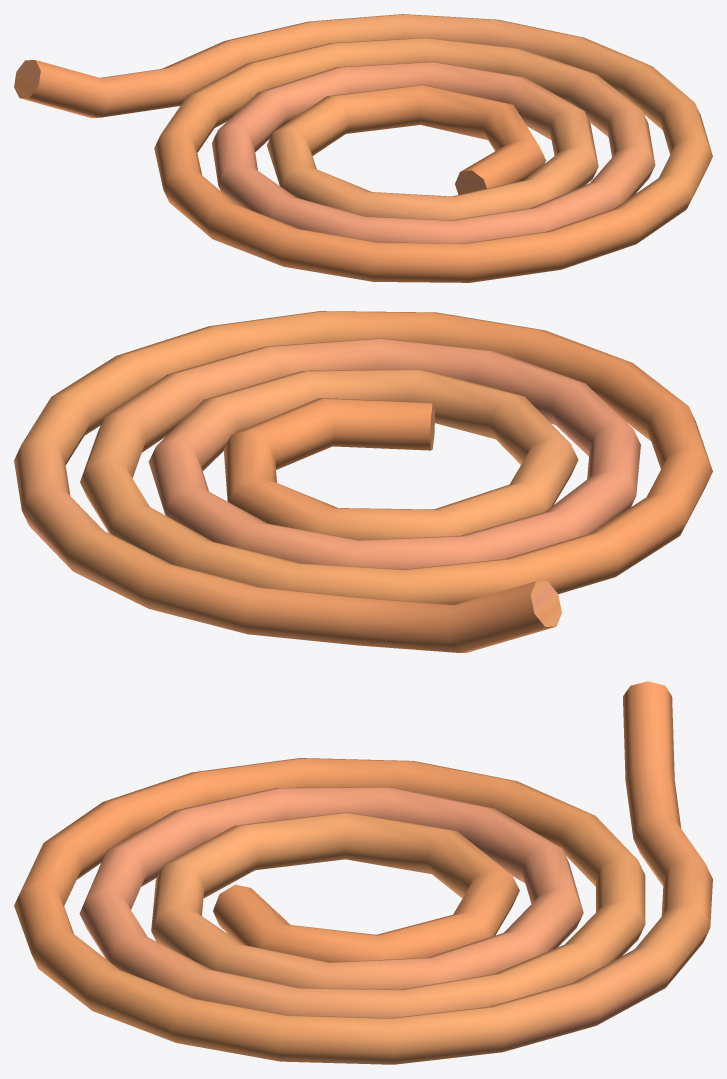
Rendered from static.glb.
The picture shows the model from 3 angles, top to bottom: view 1: azimuth 30°, elevation 25°; view 2: azimuth 150°, elevation 25°; view 3: azimuth 270°, elevation 25°; orthographic projection. The views are drawn at different scales.
Visible parts, largest first — view 1: Sweep; view 2: Sweep; view 3: Sweep.
Boxes of the visible parts, bbox=[...] form: Sweep: bbox=[14, 14, 712, 282]; Sweep: bbox=[14, 311, 712, 652]; Sweep: bbox=[14, 681, 712, 1064].
Bounding box in the file's own units: 0.8553 × 0.1288 × 0.8302.
Materials: 1 (1 with a texture image).
